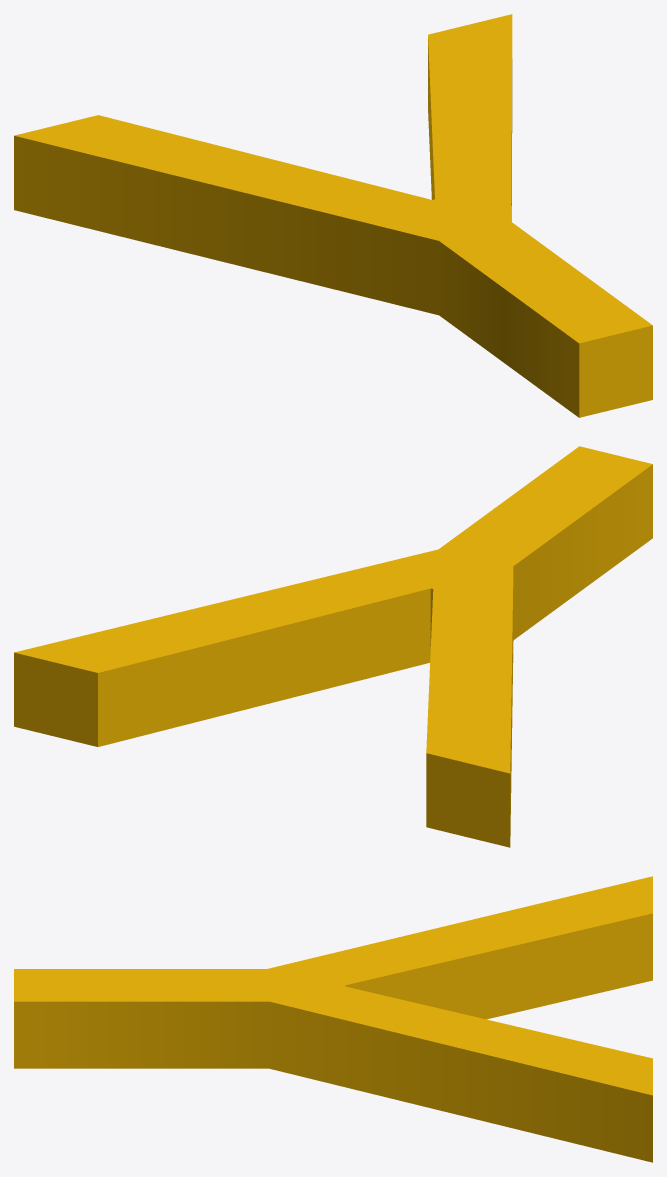
3 renders of one model, top to bottom at view 1: azimuth 30°, elevation 25°; view 2: azimuth 150°, elevation 25°; view 3: azimuth 270°, elevation 25°, orthographic. The views are drawn at different scales.
Visible parts, largest first — view 1: Y; view 2: Y; view 3: Y.
Boxes of the visible parts, <box> form: Y: <box>14,14,652,417</box>; Y: <box>14,446,652,847</box>; Y: <box>14,876,652,1162</box>.
Size of the model in its own units: 0.1758 by 0.0251 by 0.2165.
